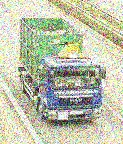truck: (20, 17, 103, 122)
